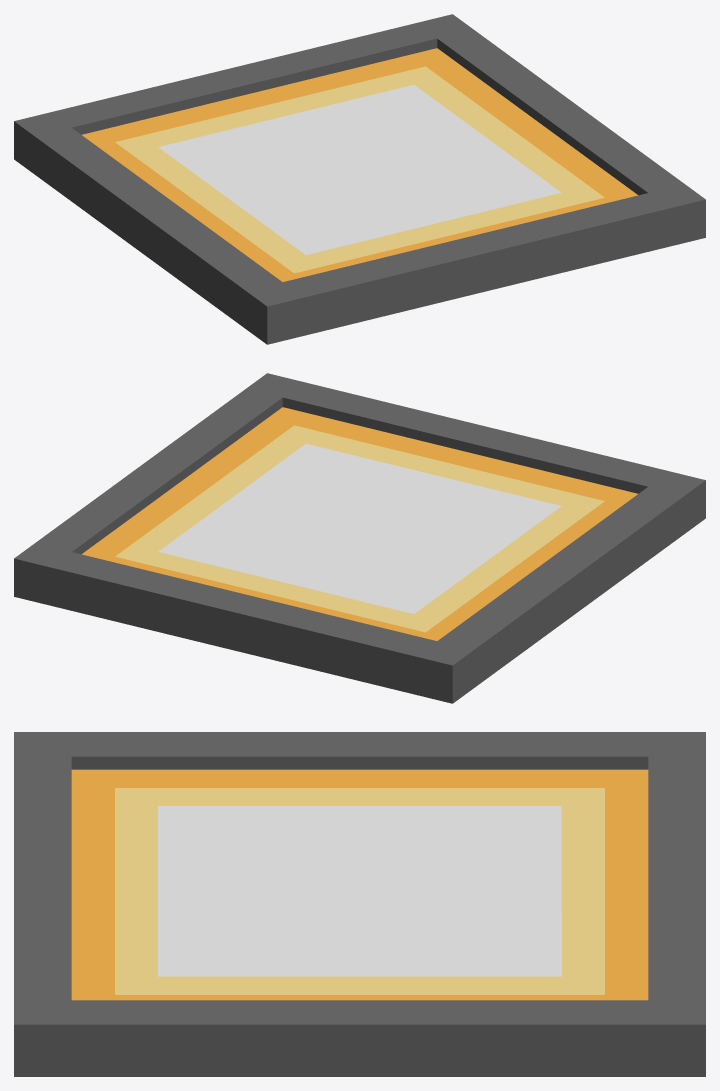
File: MOb_LightCelling_001.fbx
The picture shows the model from 3 angles, top to bottom: view 1: azimuth 30°, elevation 25°; view 2: azimuth 150°, elevation 25°; view 3: azimuth 270°, elevation 25°; orthographic projection. The views are drawn at different scales.
Visible parts, largest first — view 1: MOb_LightCelling_001; view 2: MOb_LightCelling_001; view 3: MOb_LightCelling_001.
Boxes of the visible parts, x1,y1,x2,y2 form: MOb_LightCelling_001: (14, 14, 705, 344); MOb_LightCelling_001: (14, 373, 705, 703); MOb_LightCelling_001: (14, 732, 705, 1076).
Bounding box in the file's own units: 0.48 × 0.04 × 0.48.
